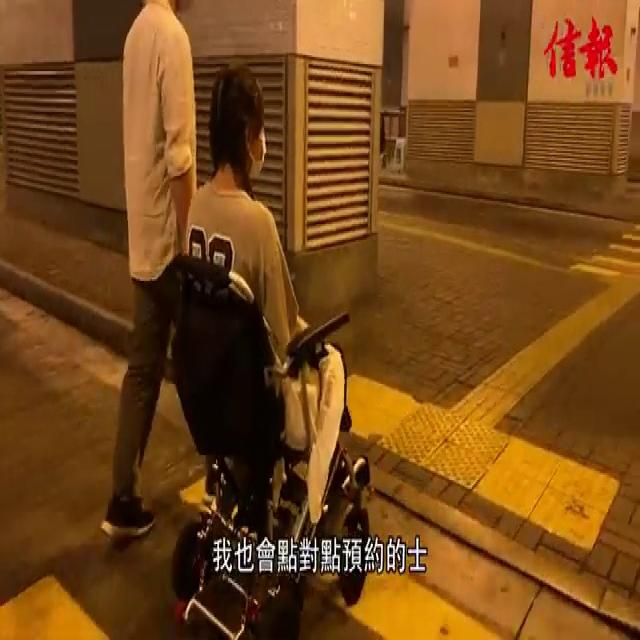wheelchairs: (159, 236, 379, 640)
